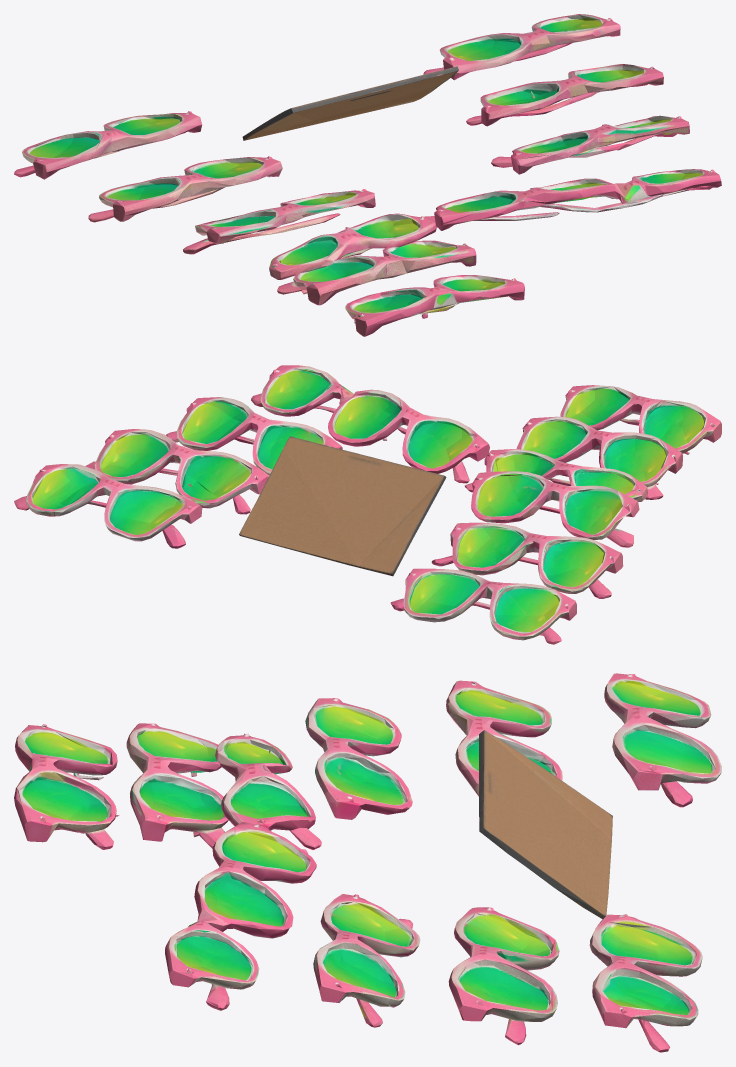
3 renders of one model, top to bottom at view 1: azimuth 30°, elevation 25°; view 2: azimuth 150°, elevation 25°; view 3: azimuth 270°, elevation 25°, orthographic. The views are drawn at different scales.
Bounding box in the file's own units: 1.9 × 0.2449 × 1.6.
Materials: 1 (1 with a texture image).
